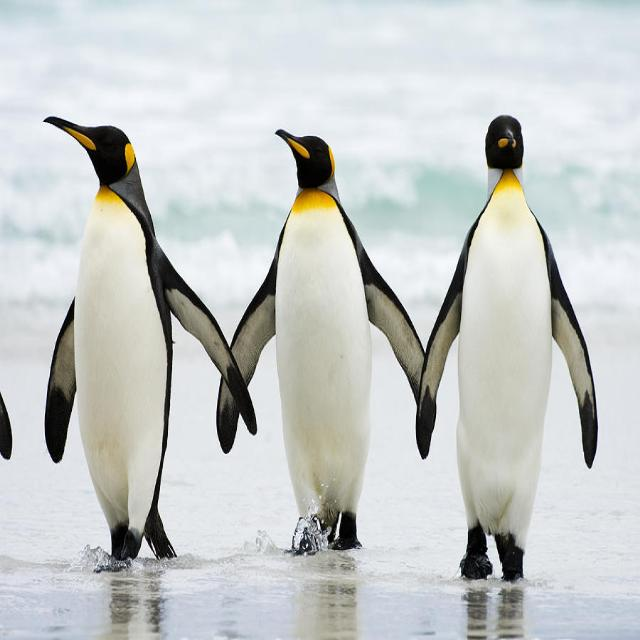Penguins: (41, 107, 190, 574), (448, 102, 563, 602), (260, 116, 382, 574)
